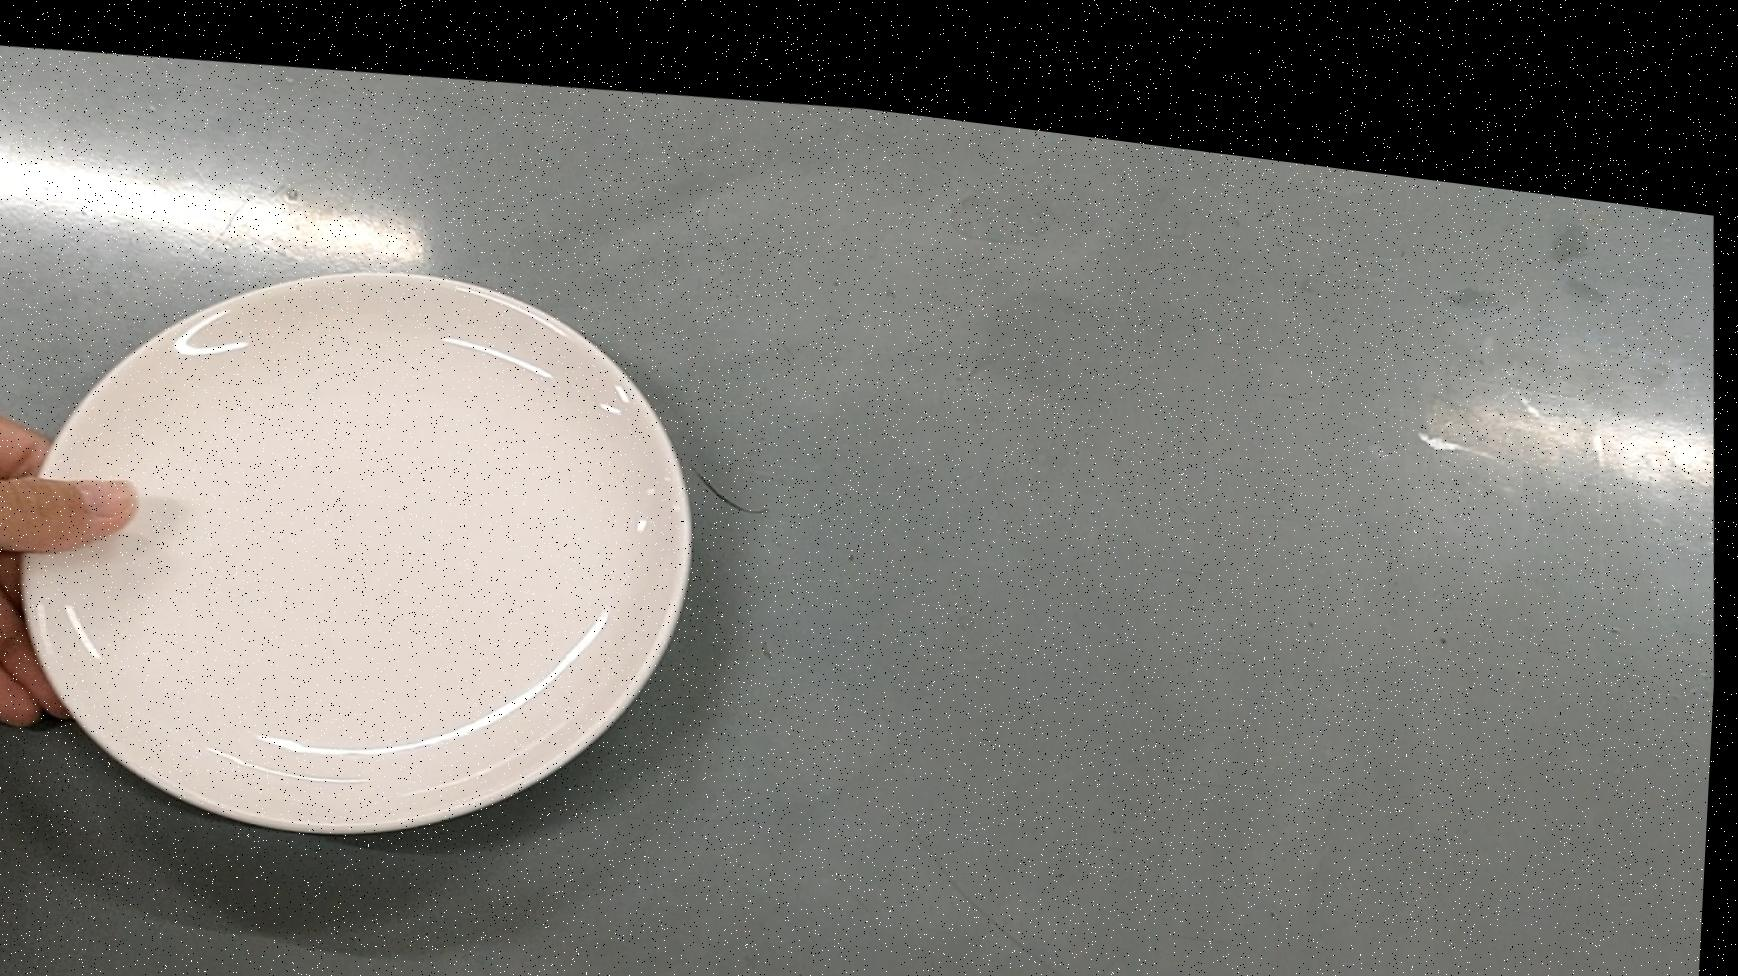plate: (0, 206, 722, 878)
